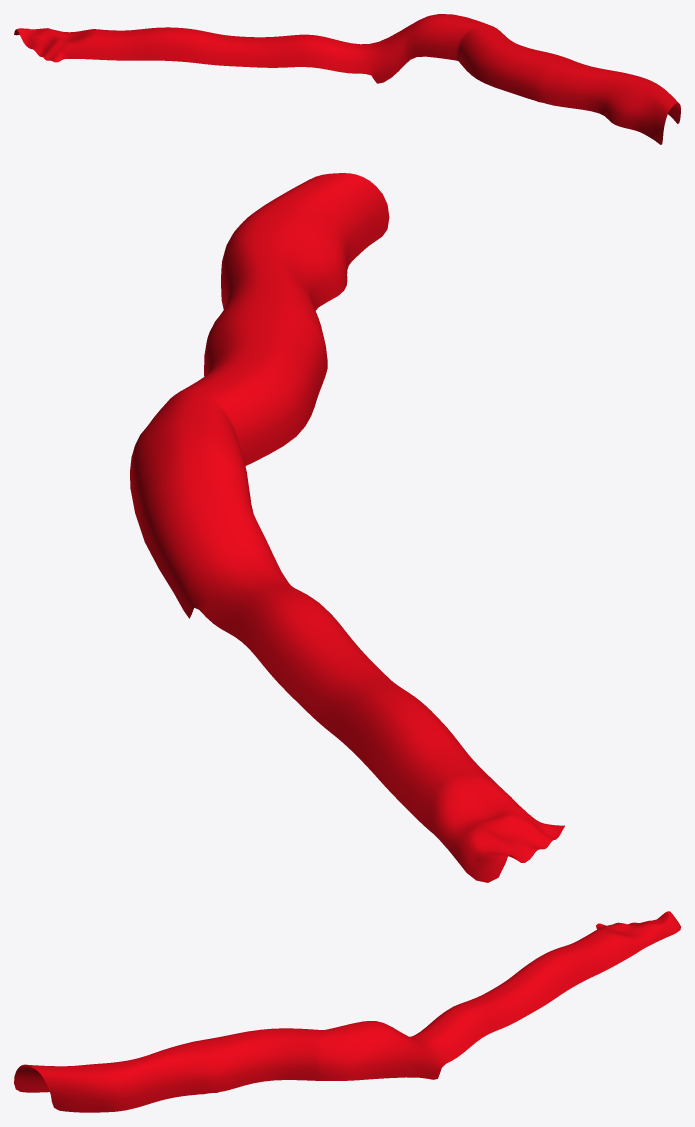
Rendered from River1.fbx.
3 renders of one model, top to bottom at view 1: azimuth 30°, elevation 25°; view 2: azimuth 150°, elevation 25°; view 3: azimuth 270°, elevation 25°, orthographic. The views are drawn at different scales.
Visible parts, largest first — view 1: River1_LOD0; view 2: River1_LOD0; view 3: River1_LOD0.
Part boxes in pixels (bbox=[...]): River1_LOD0: bbox=[14, 14, 680, 144]; River1_LOD0: bbox=[130, 173, 564, 882]; River1_LOD0: bbox=[14, 911, 680, 1112].
Size of what is drawn, in the model's own units: 7816 by 1207 by 10321.
